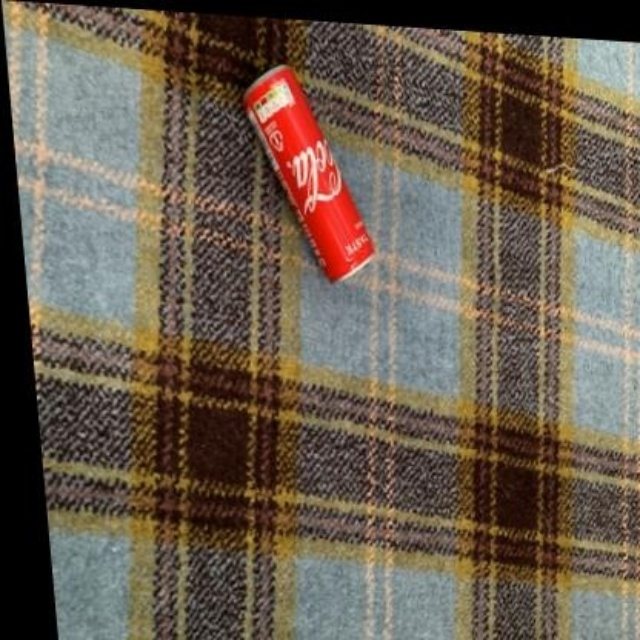trash: (245, 65, 374, 280)
